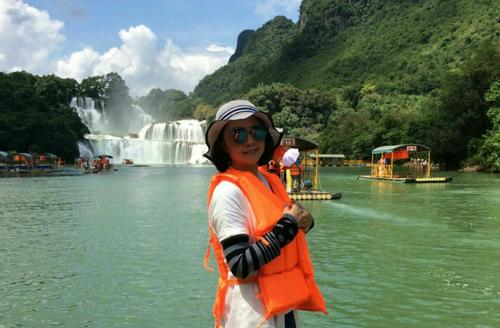reflective_clothes: (212, 152, 318, 320)
